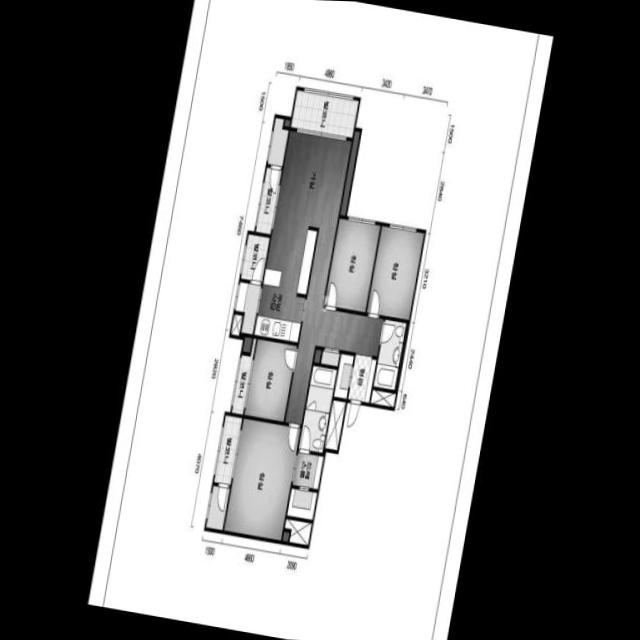background: (87, 0, 553, 640)
space_balconi: (290, 89, 358, 138), (213, 415, 241, 485), (231, 338, 255, 415), (255, 167, 281, 234), (240, 234, 269, 282)
space_bedroom: (223, 418, 300, 540), (366, 225, 423, 320), (323, 218, 380, 312), (243, 339, 296, 422)
space_dressroom: (286, 452, 323, 520)
space_front: (333, 353, 376, 403)
space_kitchen: (253, 224, 316, 342)
space_living_room: (273, 130, 383, 425)
space_other: (339, 131, 359, 216), (234, 281, 260, 334), (205, 485, 229, 530), (324, 400, 345, 450), (267, 117, 288, 166), (395, 323, 408, 390), (284, 519, 311, 545), (369, 389, 395, 407), (230, 314, 242, 336), (242, 336, 251, 352), (313, 349, 321, 363), (282, 531, 289, 541), (283, 119, 290, 127)
space_toilet: (298, 365, 336, 453), (372, 319, 406, 390)
